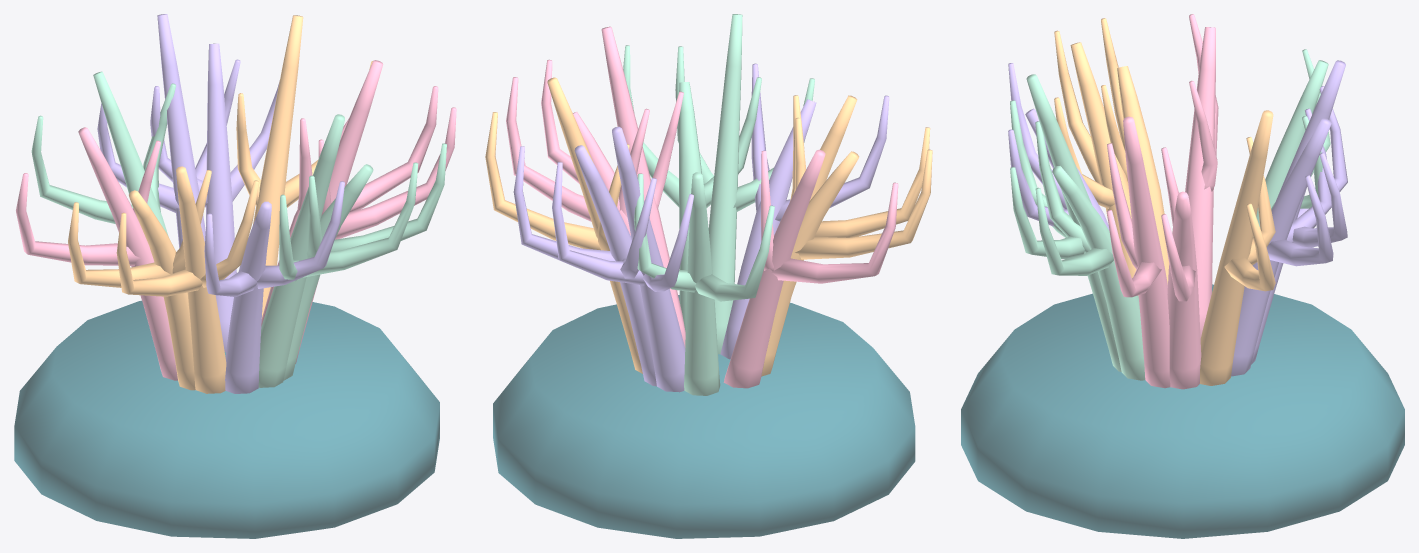
The model's file is atlantis_detail_coral_planter.glb.
3 views of the same model, side by side, from view 1: azimuth 30°, elevation 25°; view 2: azimuth 150°, elevation 25°; view 3: azimuth 270°, elevation 25° (orthographic). The views are drawn at different scales.
Parts seen in each view (by area): view 1: atlantis_detail_coral_planter_surface; view 2: atlantis_detail_coral_planter_surface; view 3: atlantis_detail_coral_planter_surface.
Boxes of the visible parts, x1,y1,x2,y2 form: atlantis_detail_coral_planter_surface: (14,14,456,538); atlantis_detail_coral_planter_surface: (485,14,932,538); atlantis_detail_coral_planter_surface: (961,14,1404,538).
Size of the model in its own units: 3.04 by 2.71 by 2.8.
